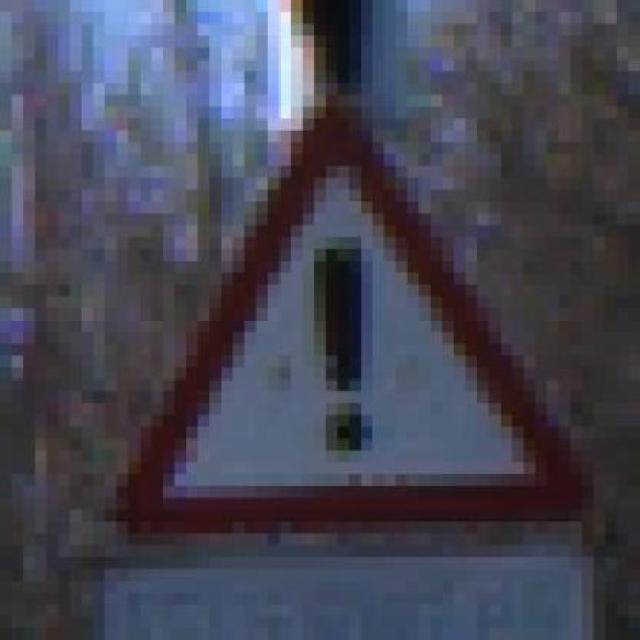Attention Please-: (104, 94, 594, 546)
